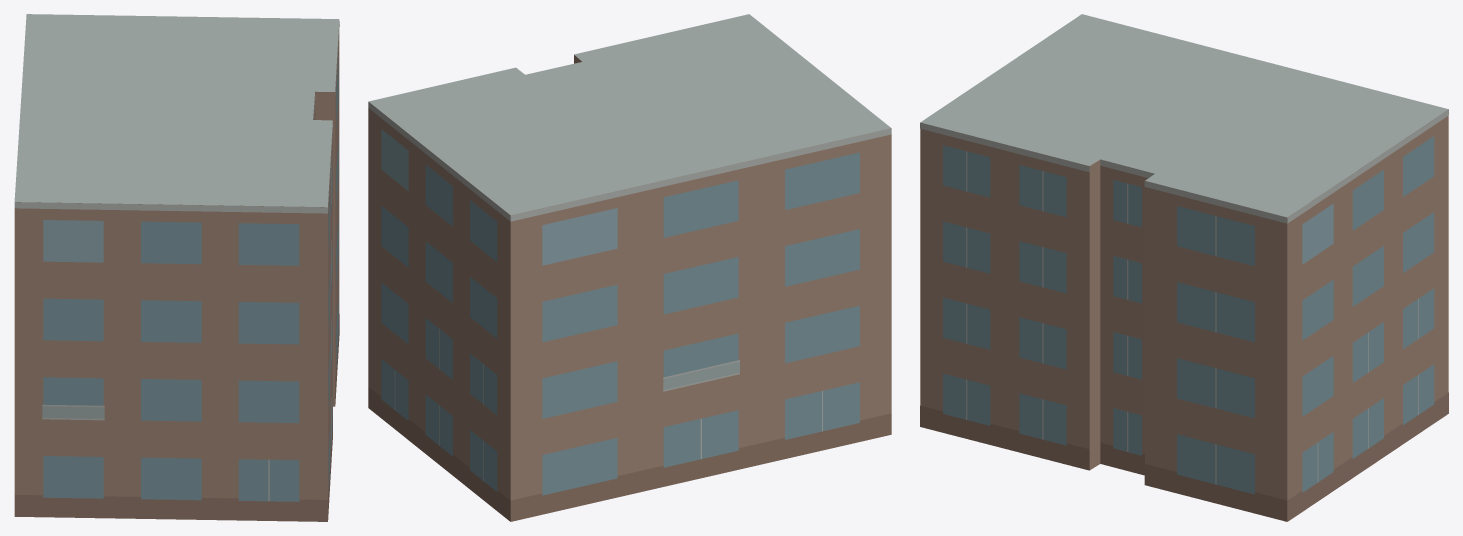
File: survey-upis-32662145.glb
3 renders of one model, left to right at view 1: azimuth 30°, elevation 25°; view 2: azimuth 150°, elevation 25°; view 3: azimuth 270°, elevation 25°, orthographic. The views are drawn at different scales.
Visible parts, largest first — view 1: survey-upis-32662145.tmp; view 2: survey-upis-32662145.tmp; view 3: survey-upis-32662145.tmp.
Boxes of the visible parts, x1=… form: survey-upis-32662145.tmp: x1=14, y1=14, x2=339, y2=521; survey-upis-32662145.tmp: x1=368, y1=14, x2=891, y2=521; survey-upis-32662145.tmp: x1=920, y1=14, x2=1448, y2=521.
Size of the model in its own units: 17.21 by 12 by 18.9.
